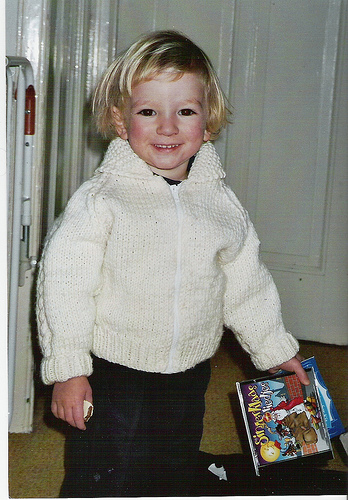without_mask: (116, 54, 216, 171)
